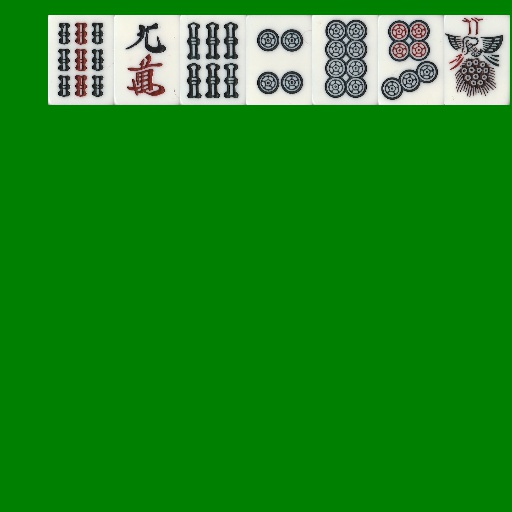1s: (444, 15, 510, 105)
4p: (246, 15, 312, 105)
6s: (180, 15, 246, 105)
7p: (378, 15, 444, 105)
8p: (312, 15, 378, 105)
9m: (114, 15, 180, 105)
9s: (48, 15, 114, 105)
